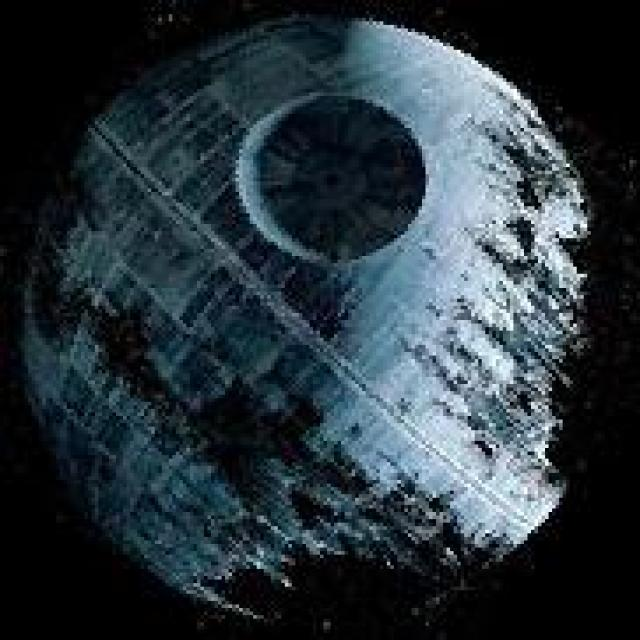Death Star: (7, 0, 601, 633)
